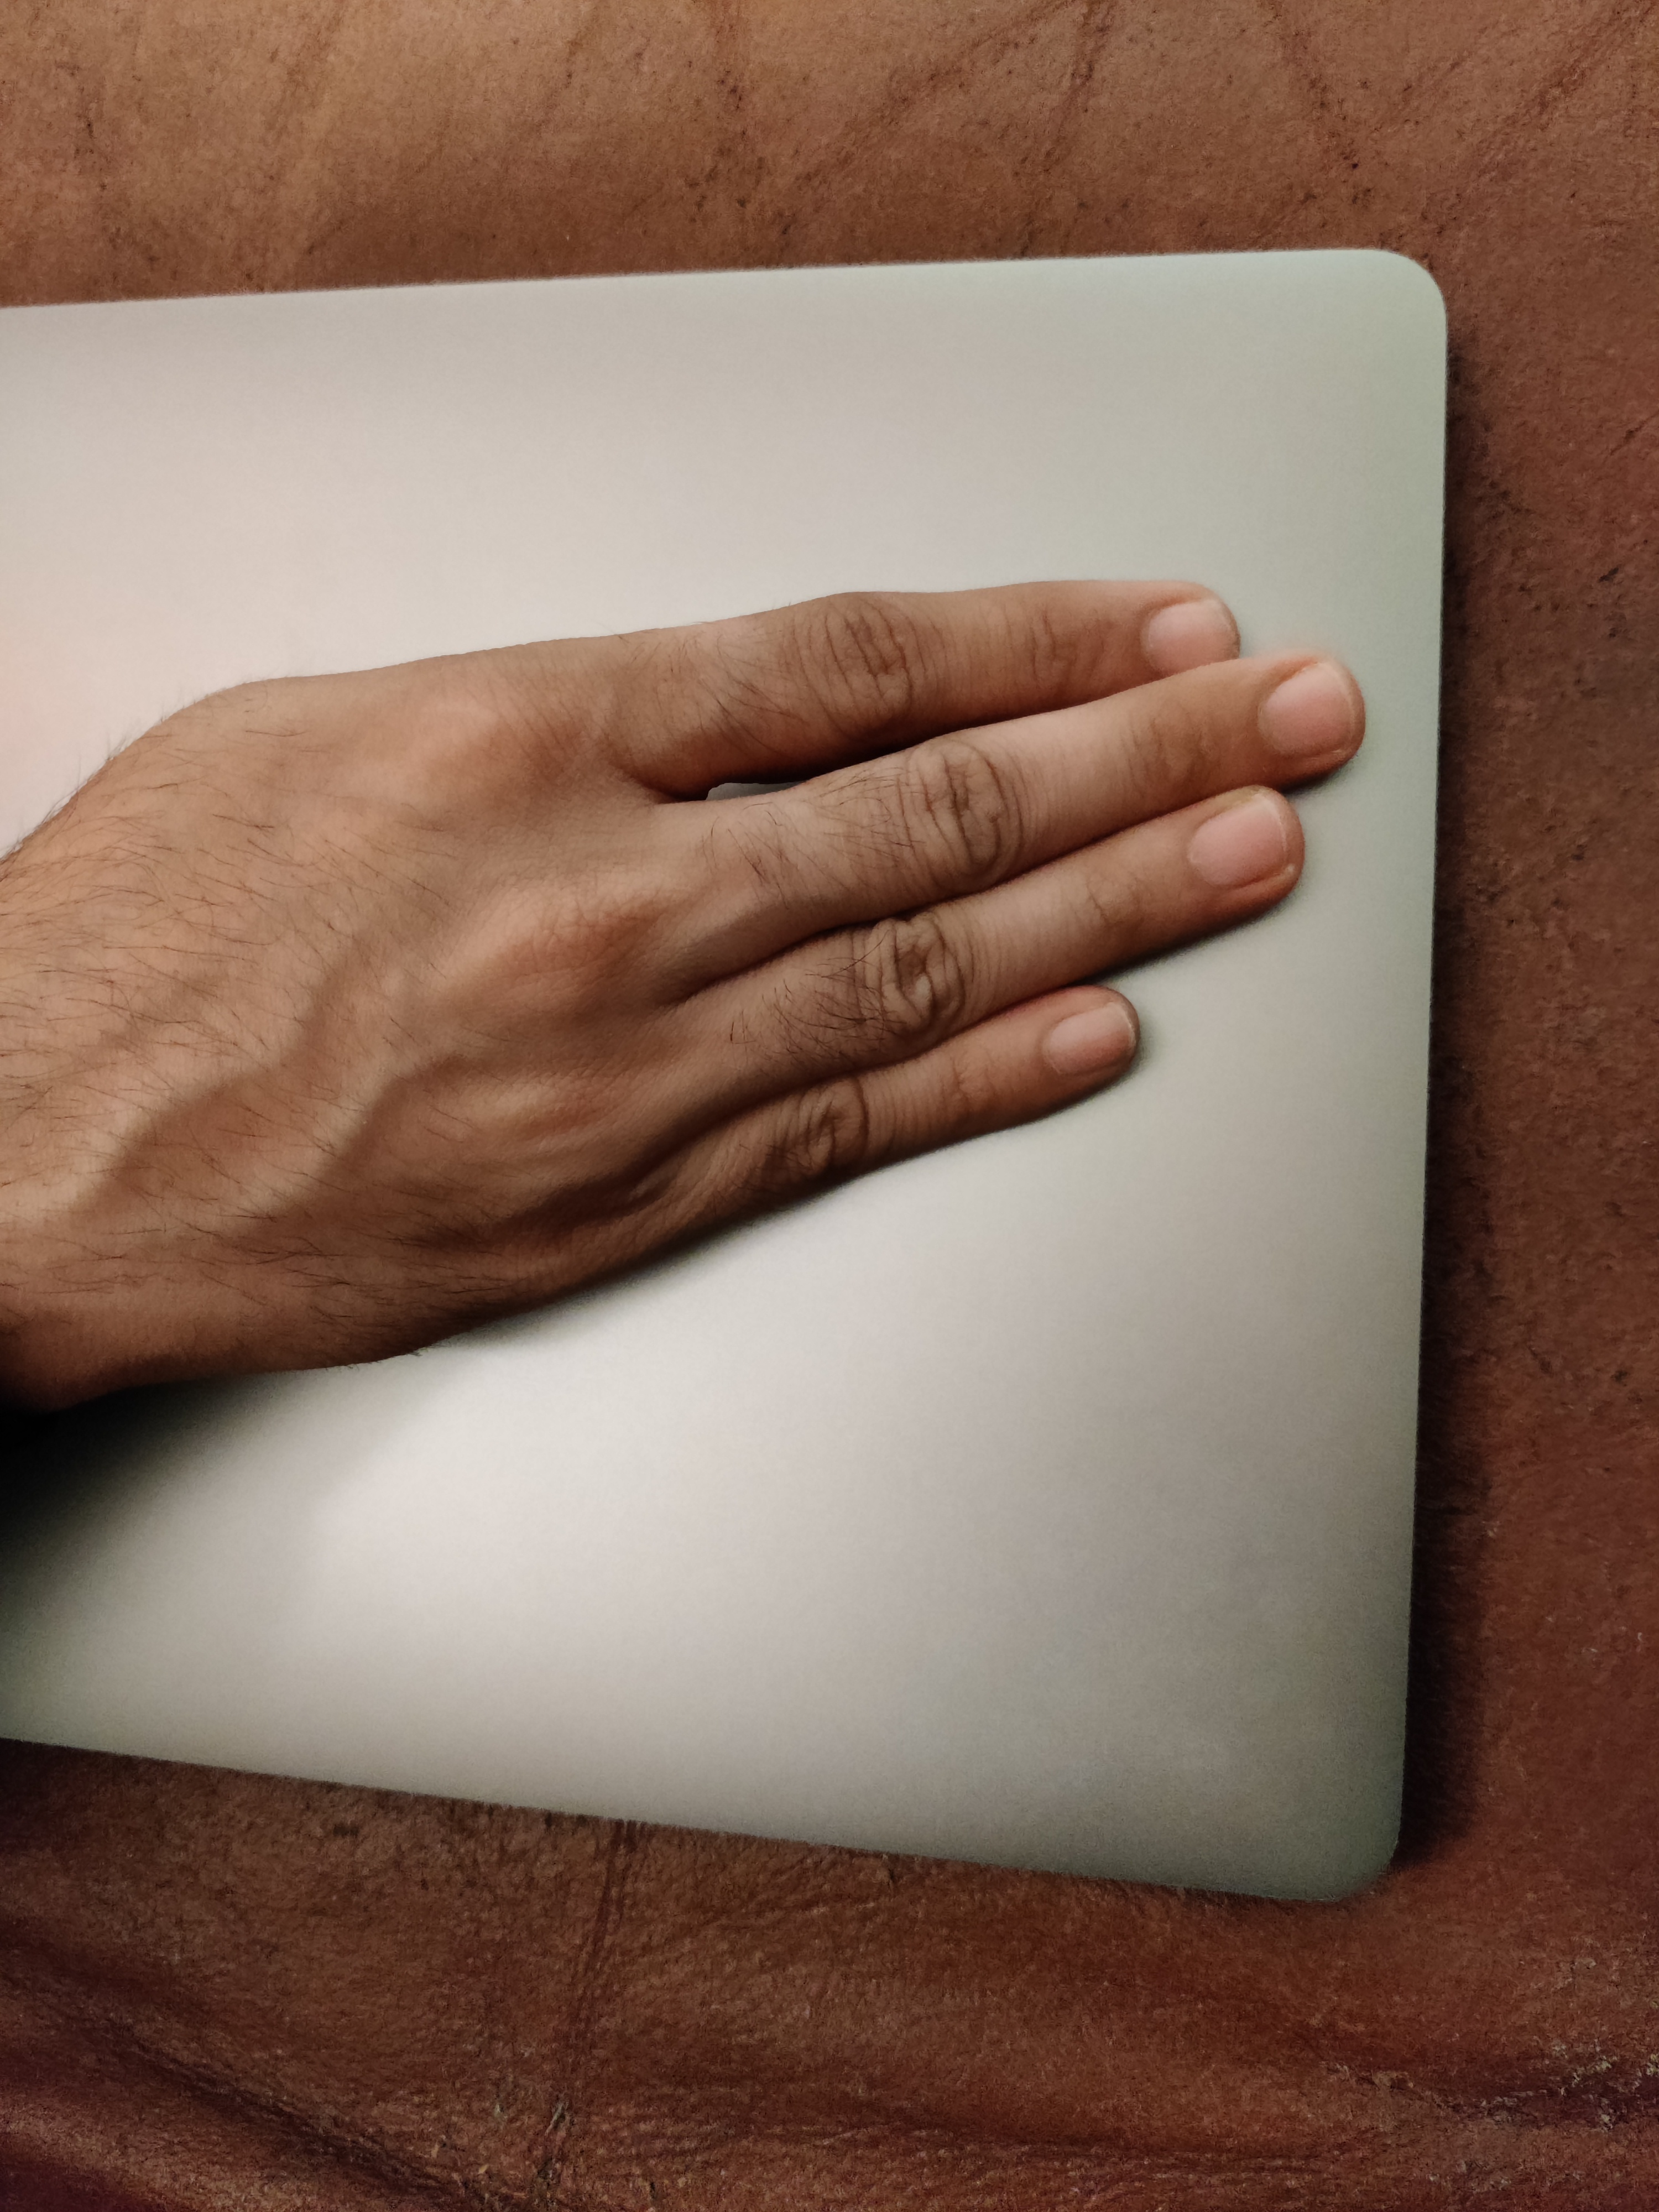left: (5, 421, 1595, 1575)
